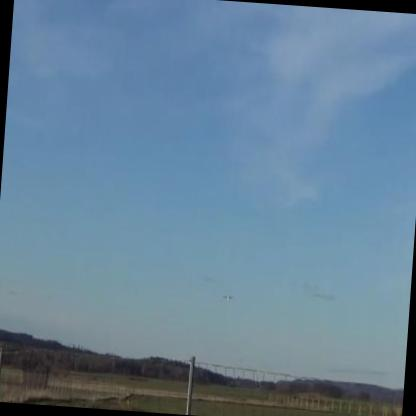plane: (223, 289, 236, 308)
